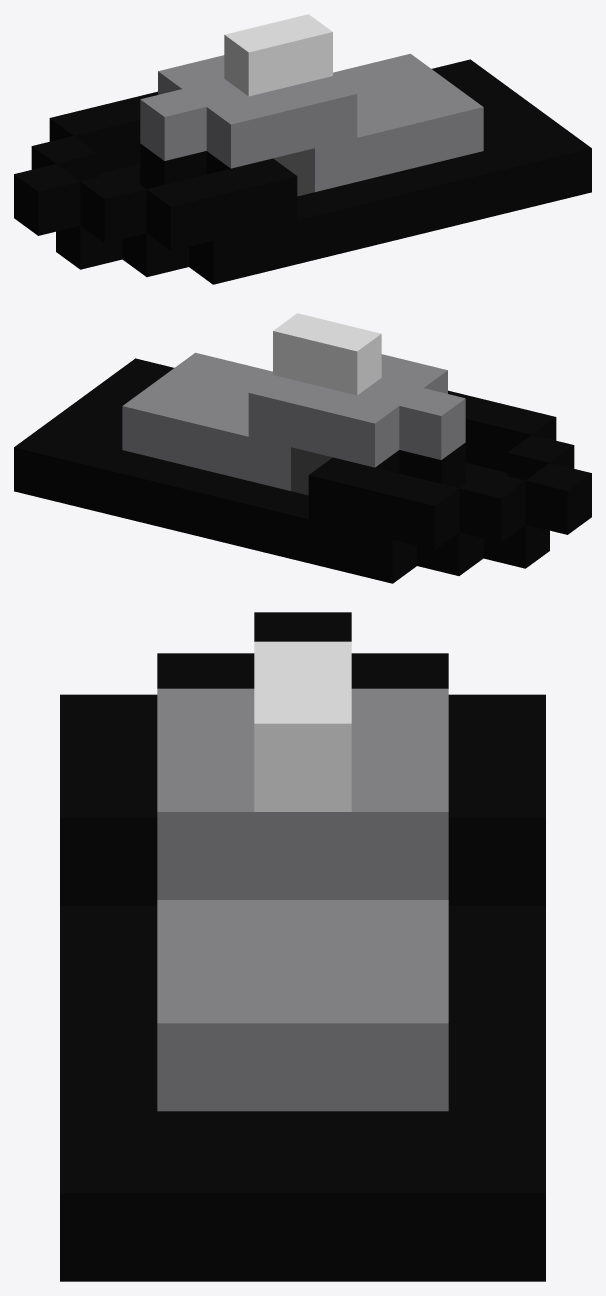
The model's file is cruiser.glb.
3 renders of one model, top to bottom at view 1: azimuth 30°, elevation 25°; view 2: azimuth 150°, elevation 25°; view 3: azimuth 270°, elevation 25°, orthographic. The views are drawn at different scales.
Parts seen in each view (by area): view 1: cruiser; view 2: cruiser; view 3: cruiser.
Part boxes in pixels (left/top/right/bottom): cruiser: left=14, top=14, right=591, bottom=284; cruiser: left=14, top=313, right=591, bottom=583; cruiser: left=60, top=612, right=545, bottom=1281.
Size of the model in its own units: 0.5371 by 0.179 by 0.2238.
1 material, 1 textured.
